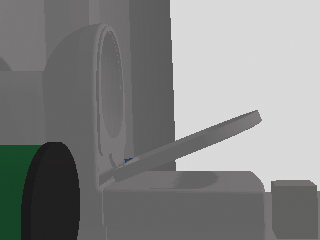lid_1: (112, 110, 261, 181)
